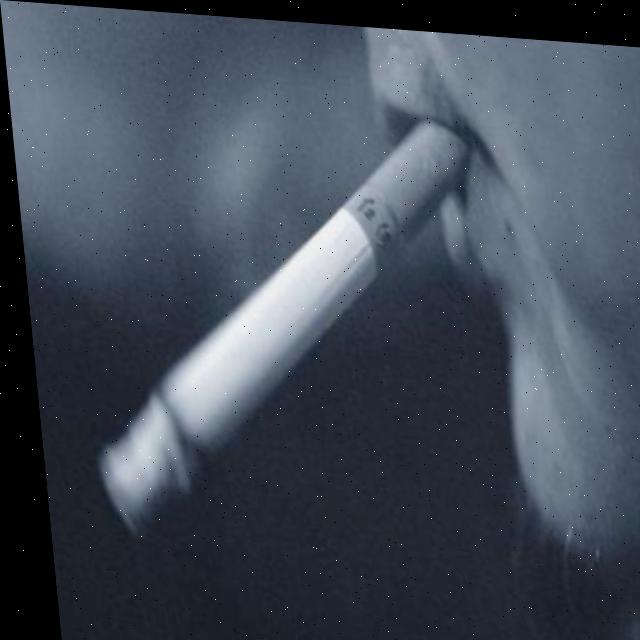cigarette: (61, 85, 488, 566)
